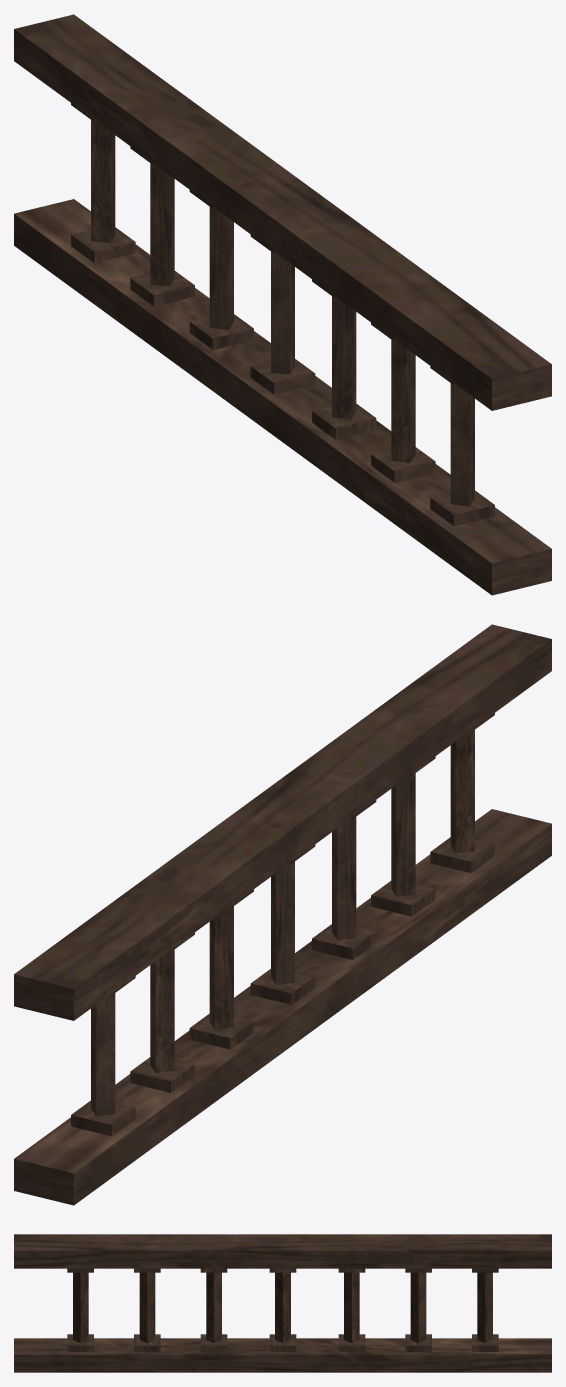
Rendered from Railing.L.fbx.
3 renders of one model, top to bottom at view 1: azimuth 30°, elevation 25°; view 2: azimuth 150°, elevation 25°; view 3: azimuth 270°, elevation 25°, orthographic. The views are drawn at different scales.
Parts seen in each view (by area): view 1: SM_Env_Wall_GrayBrick.005; view 2: SM_Env_Wall_GrayBrick.005; view 3: SM_Env_Wall_GrayBrick.005.
Boxes of the visible parts, x1,y1,x2,y2 form: SM_Env_Wall_GrayBrick.005: (14, 14, 551, 595); SM_Env_Wall_GrayBrick.005: (14, 624, 551, 1205); SM_Env_Wall_GrayBrick.005: (14, 1234, 551, 1372).
Bounding box in the file's own units: 0.3621 × 5 × 1.25.
